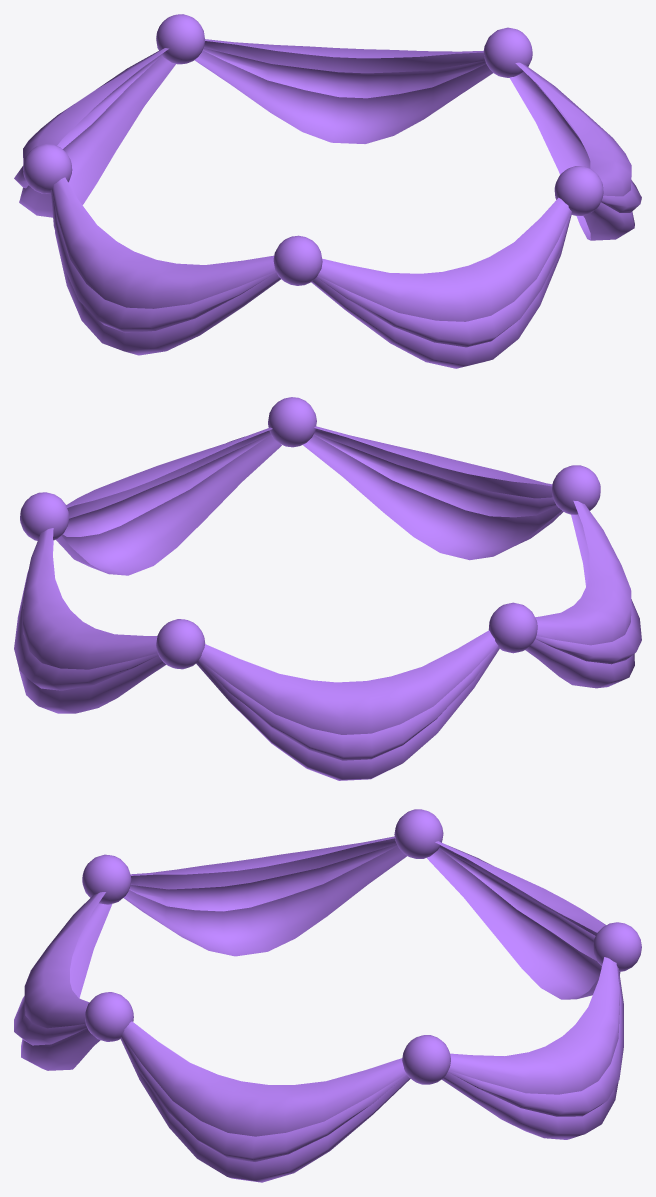
File: Cake_Sml_itemsSide_Drapes-A.FBX
The picture shows the model from 3 angles, top to bottom: view 1: azimuth 30°, elevation 25°; view 2: azimuth 150°, elevation 25°; view 3: azimuth 270°, elevation 25°; orthographic projection.
Visible parts, largest first — view 1: Cake_Sml_itemsSide_Drapes-A; view 2: Cake_Sml_itemsSide_Drapes-A; view 3: Cake_Sml_itemsSide_Drapes-A.
Part boxes in pixels (x1=…): Cake_Sml_itemsSide_Drapes-A: x1=14, y1=14, x2=641, y2=368; Cake_Sml_itemsSide_Drapes-A: x1=14, y1=397, x2=641, y2=780; Cake_Sml_itemsSide_Drapes-A: x1=14, y1=809, x2=641, y2=1182.
Size of the model in its own units: 5259 by 1274 by 5275.
